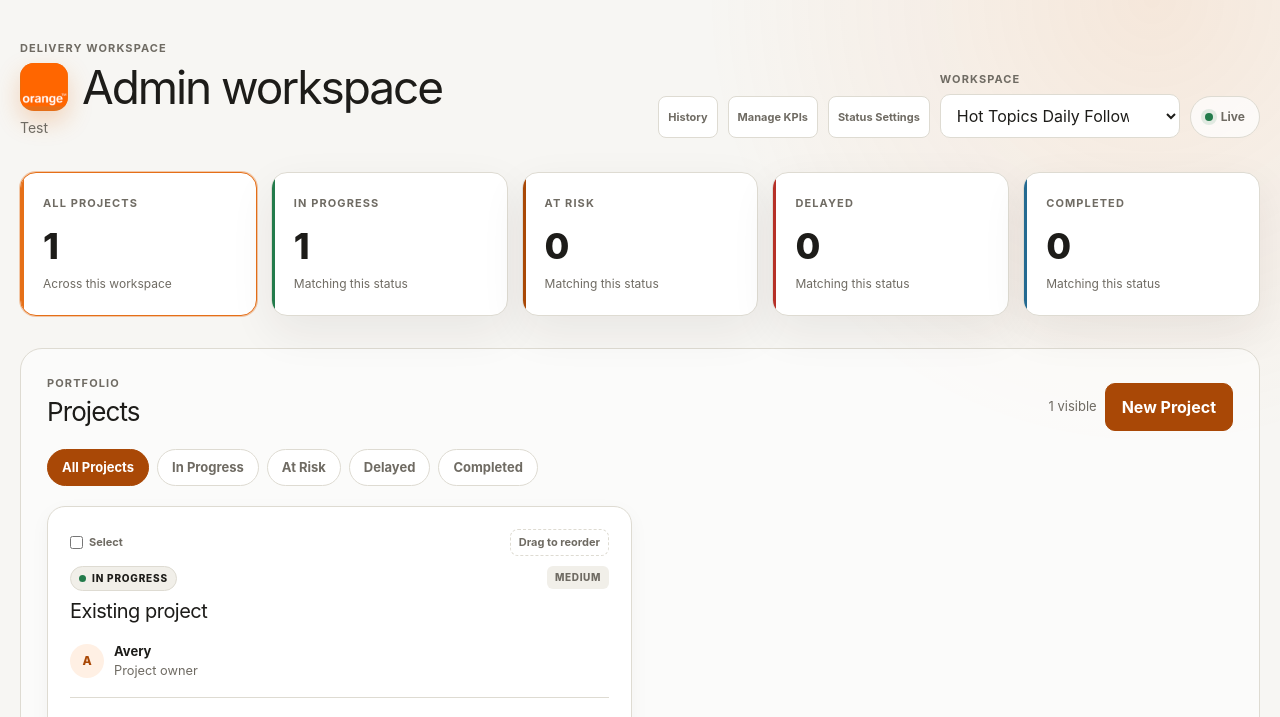
Test: admin dashboard controls › opens Manage KPIs for renaming and changing status cards
The image size is (1280, 717).
Click the button "Manage KPIs" at x=773, y=117, box [728,96,818,138]
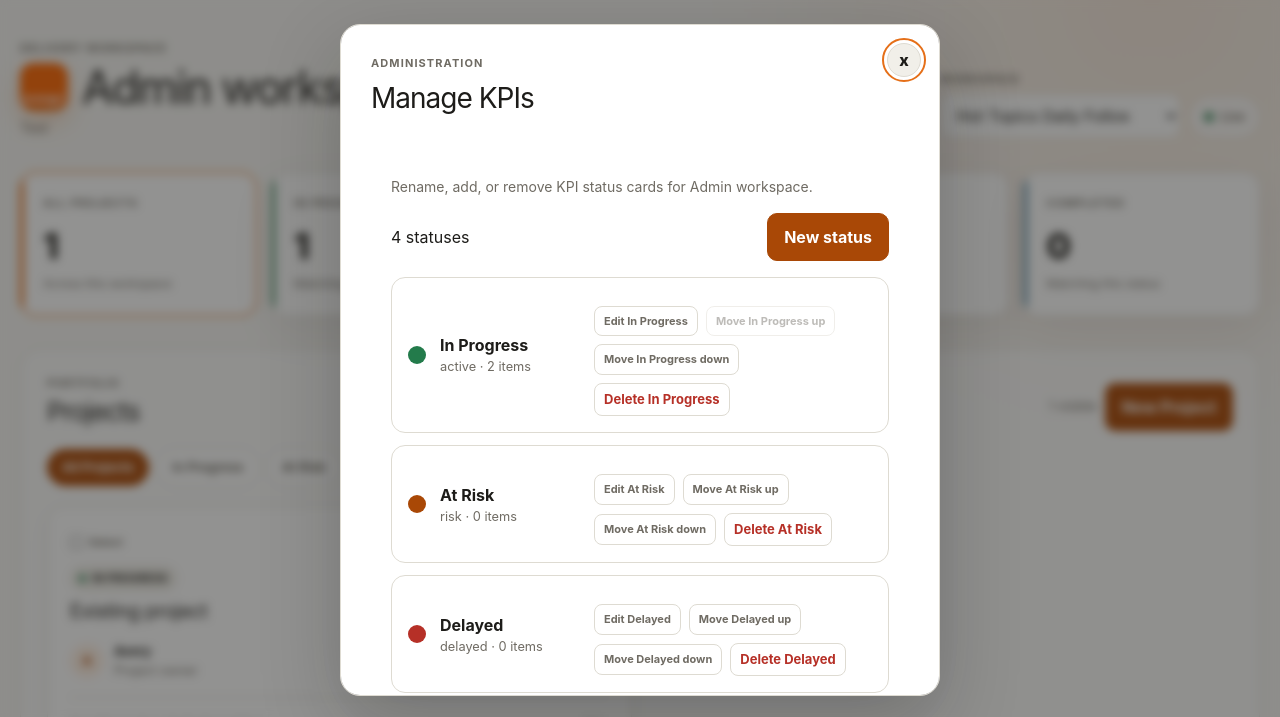
Result: the button "New status" is shown at [767,213,889,261]
Result: the button "Edit In Progress" is shown at [594,306,698,336]
Result: the button "Delete In Progress" is shown at [594,383,730,416]
